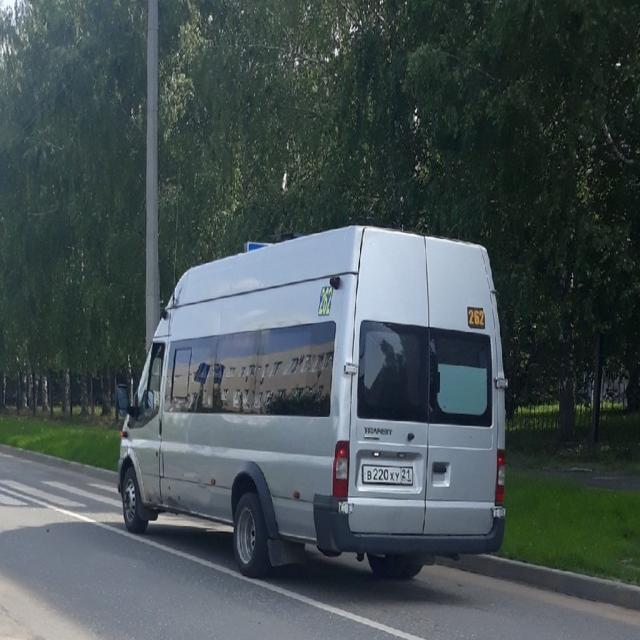number-of-bus: (467, 305, 489, 333), (318, 285, 335, 319)
